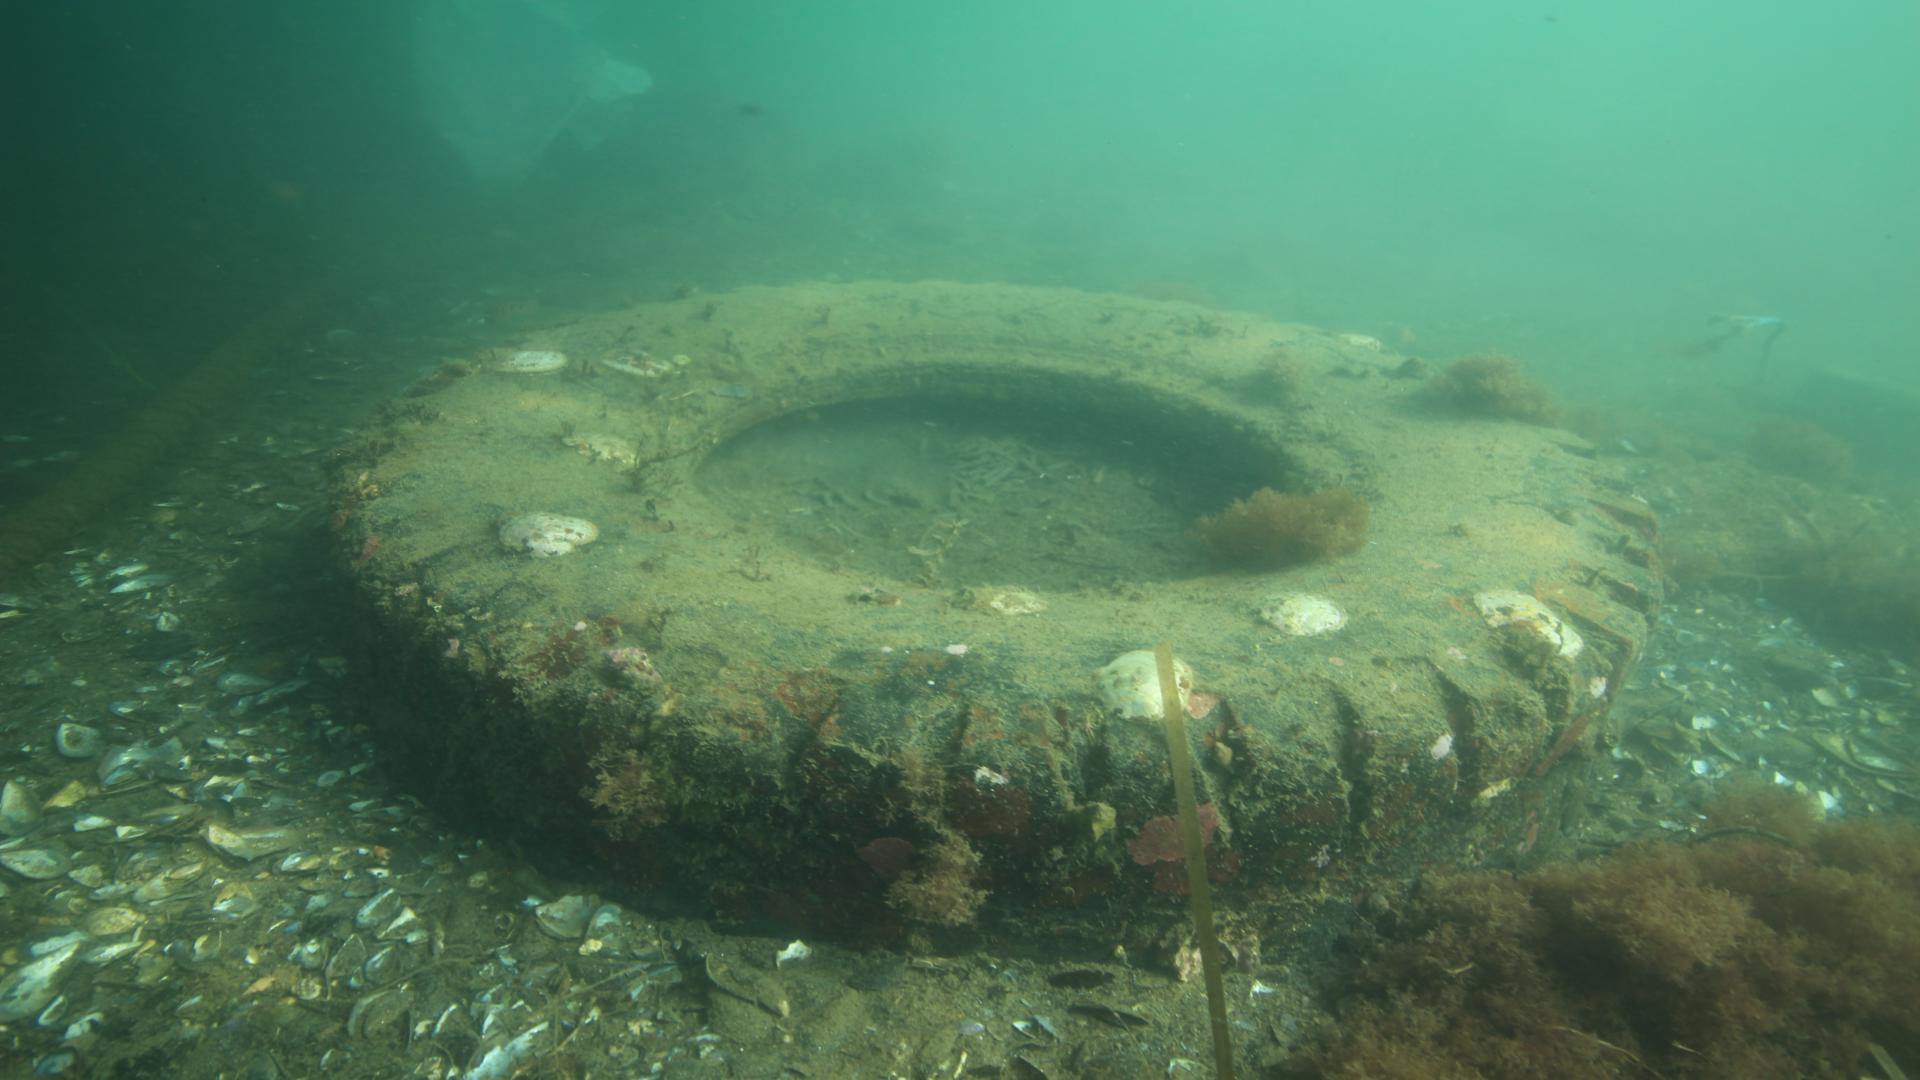rope: (0, 309, 274, 575)
tire: (328, 278, 1668, 953)
